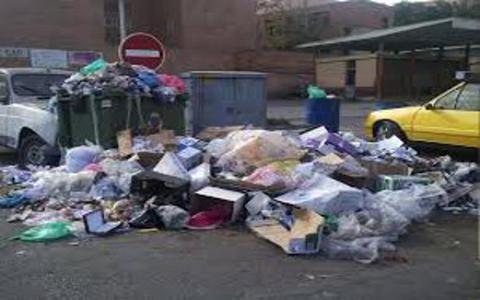overflowing garbage: (71, 69, 216, 246)
